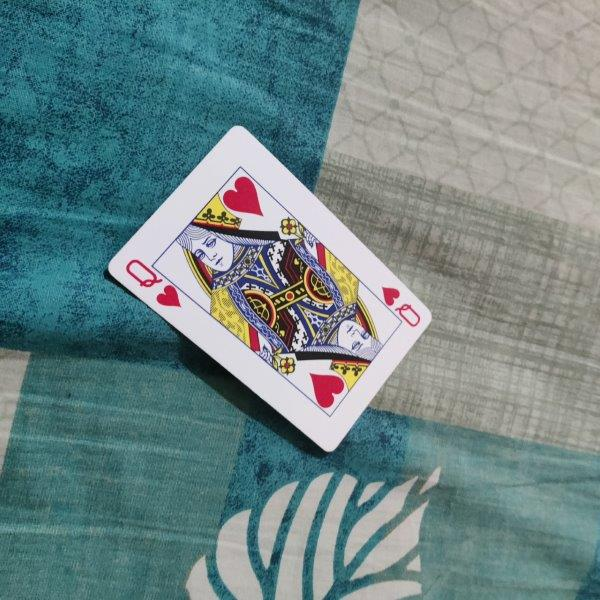Queen of Hearts: (106, 124, 432, 453)
